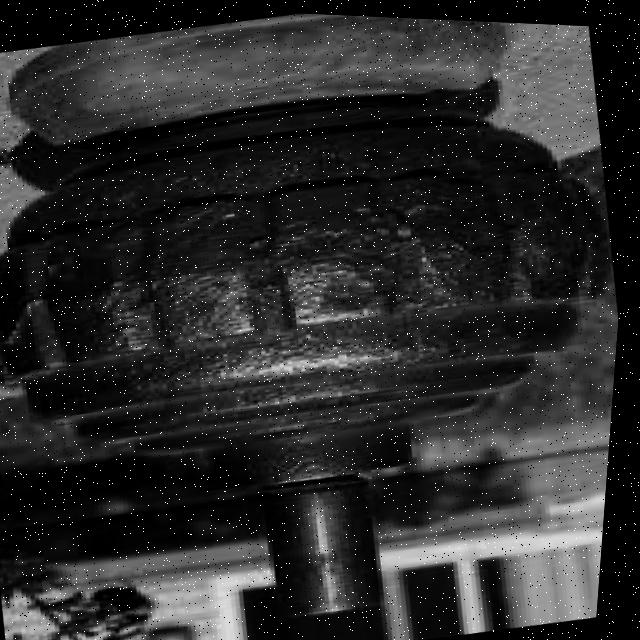grenade: (0, 55, 637, 640)
